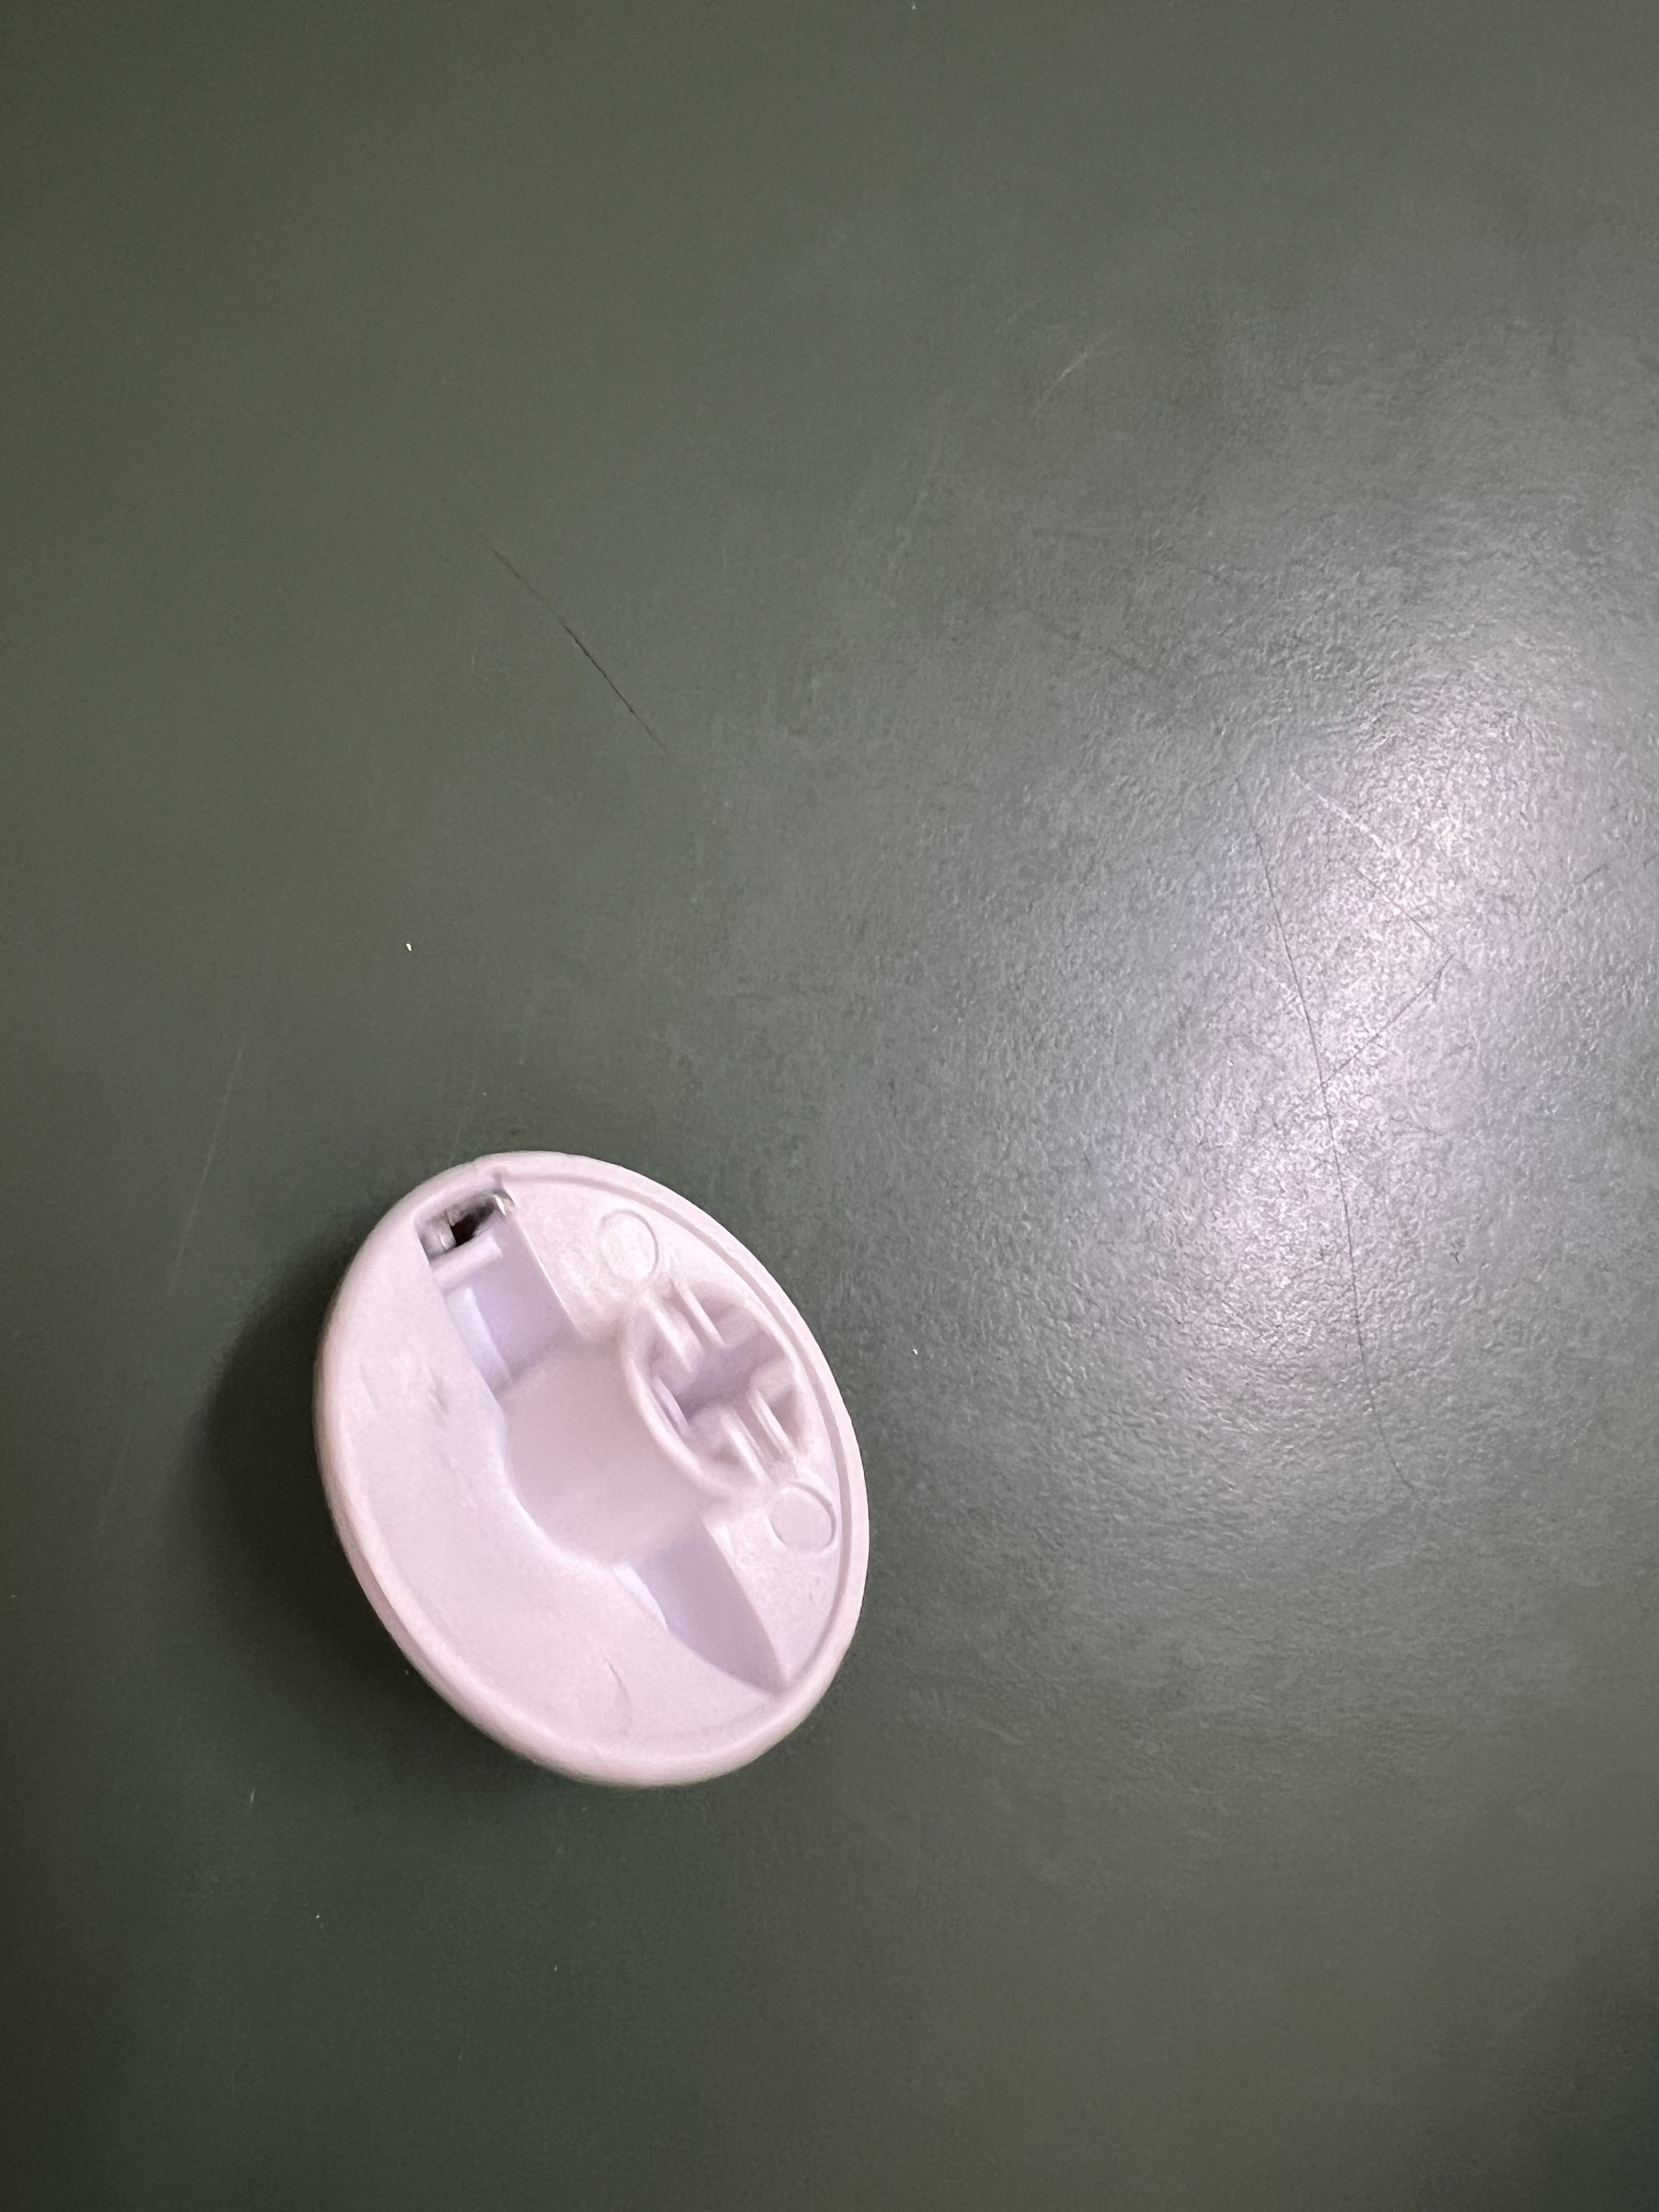regulator: (301, 1139, 894, 1797)
